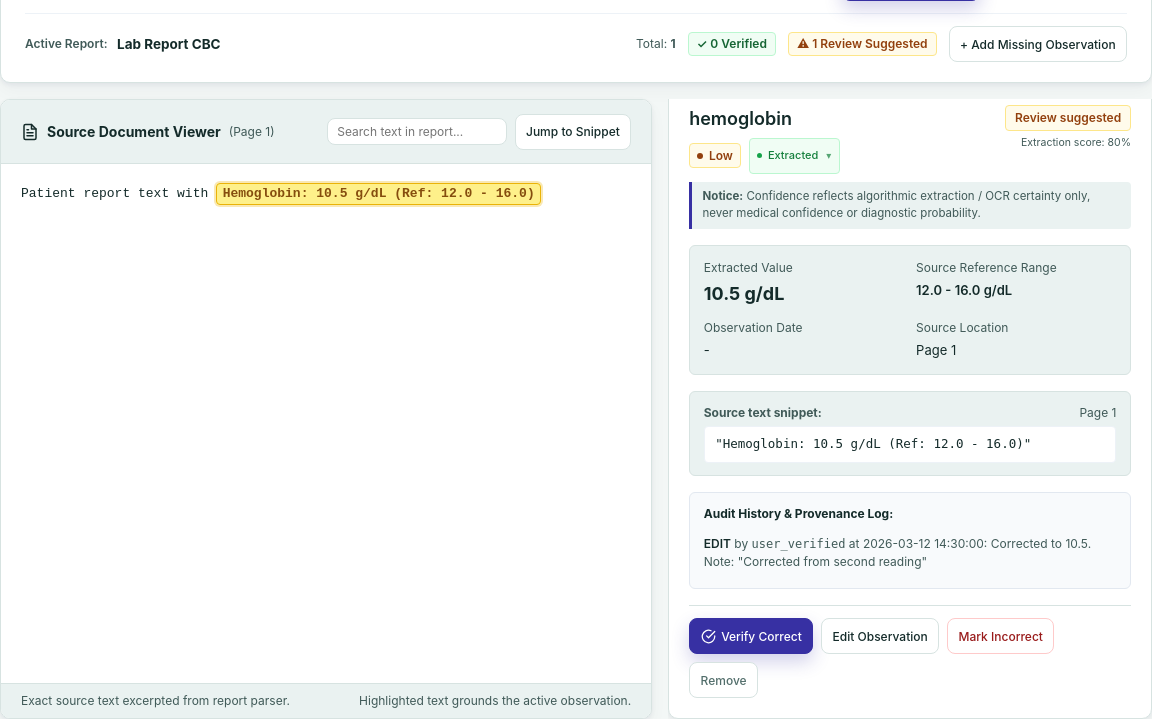
ReviewVerificationPage › opens edit modal when Edit Observation is clicked
This screenshot has width=1152, height=719.
(page scrolled)
Click the button "Edit Observation": x=880, y=636 821,618 -> 939,654
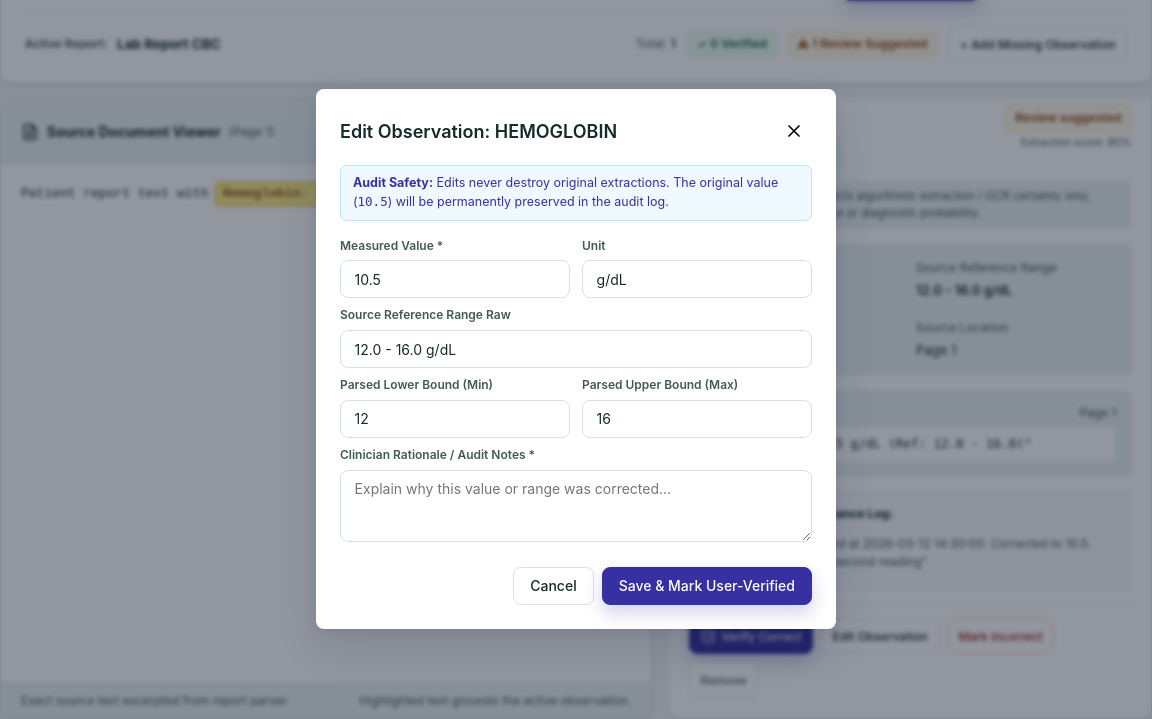
Expected: the heading "Edit Observation: HEMOGLOBIN" is shown, 340,118 -> 617,145
Expected: the button "Save & Mark User-Verified" is shown, 602,567 -> 812,605
